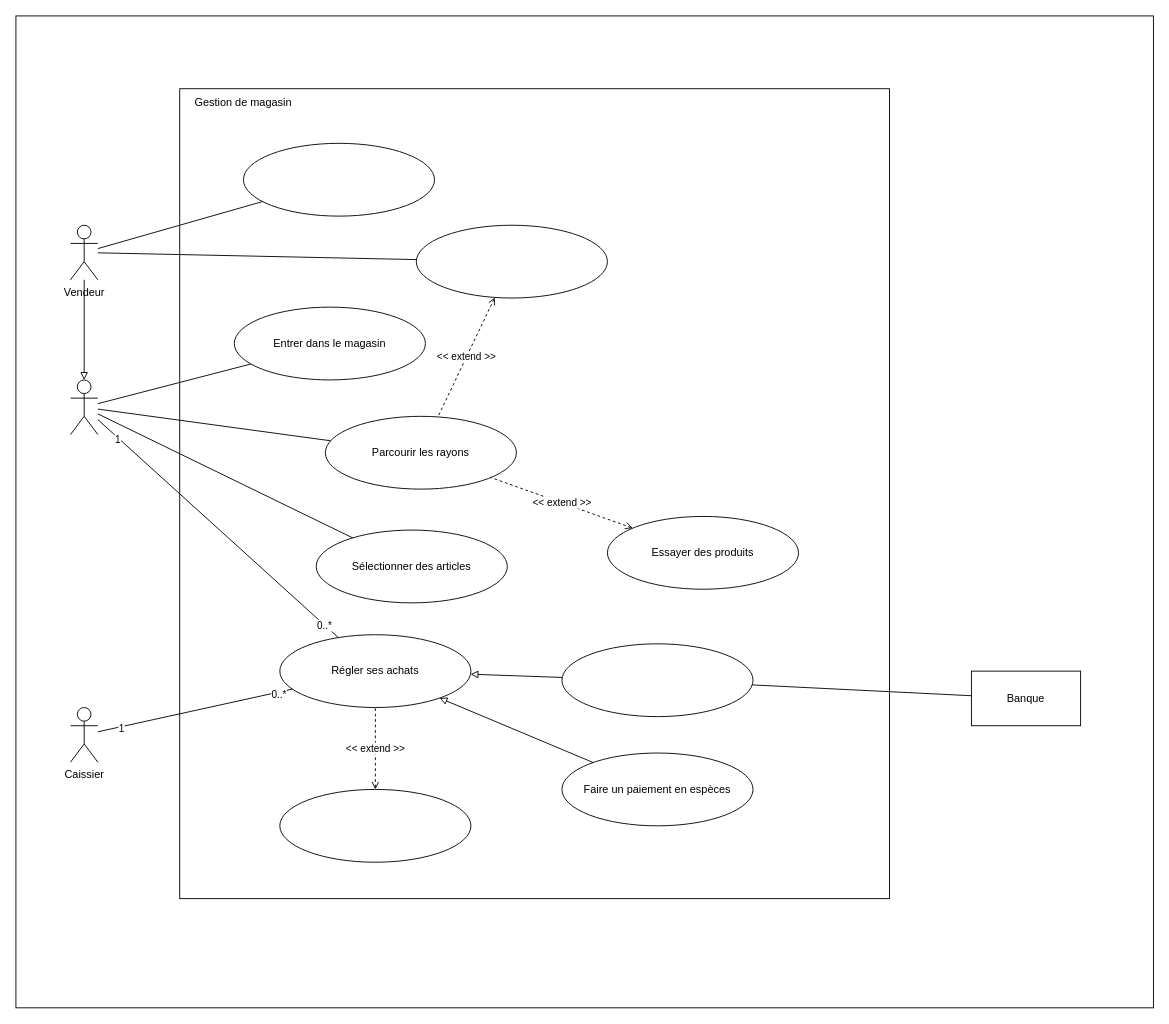
Image size: 1169x1024. Some labels were removed from this diagram. Here are the shapes that lost their labels. From the top down, the centre of each, then its label:
the point at 339,179: Réaliser l'inventaire
the point at 511,261: Demander des informations
the point at 84,407: Client
the point at 657,680: Faire un paiement en CB
the point at 375,825: Obtenir une remise
